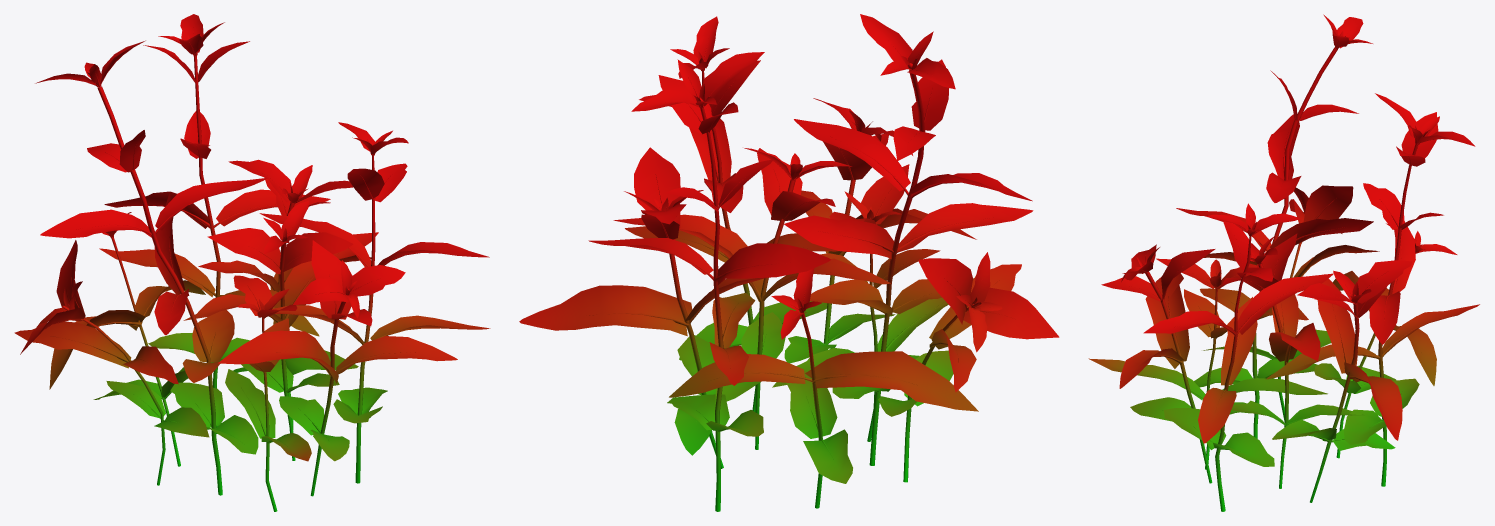
File: Var4_LOD1.fbx
3 views of the same model, side by side, from view 1: azimuth 30°, elevation 25°; view 2: azimuth 150°, elevation 25°; view 3: azimuth 270°, elevation 25° (orthographic). The views are drawn at different scales.
Visible parts, largest first — view 1: _b1tg_Var4_LOD1; view 2: _b1tg_Var4_LOD1; view 3: _b1tg_Var4_LOD1.
Part boxes in pixels (x1,y1,x2,y2): _b1tg_Var4_LOD1: [14, 14, 490, 511]; _b1tg_Var4_LOD1: [519, 14, 1059, 511]; _b1tg_Var4_LOD1: [1088, 14, 1479, 511].
Size of the model in its own units: 38.92 by 38.2 by 33.39.
